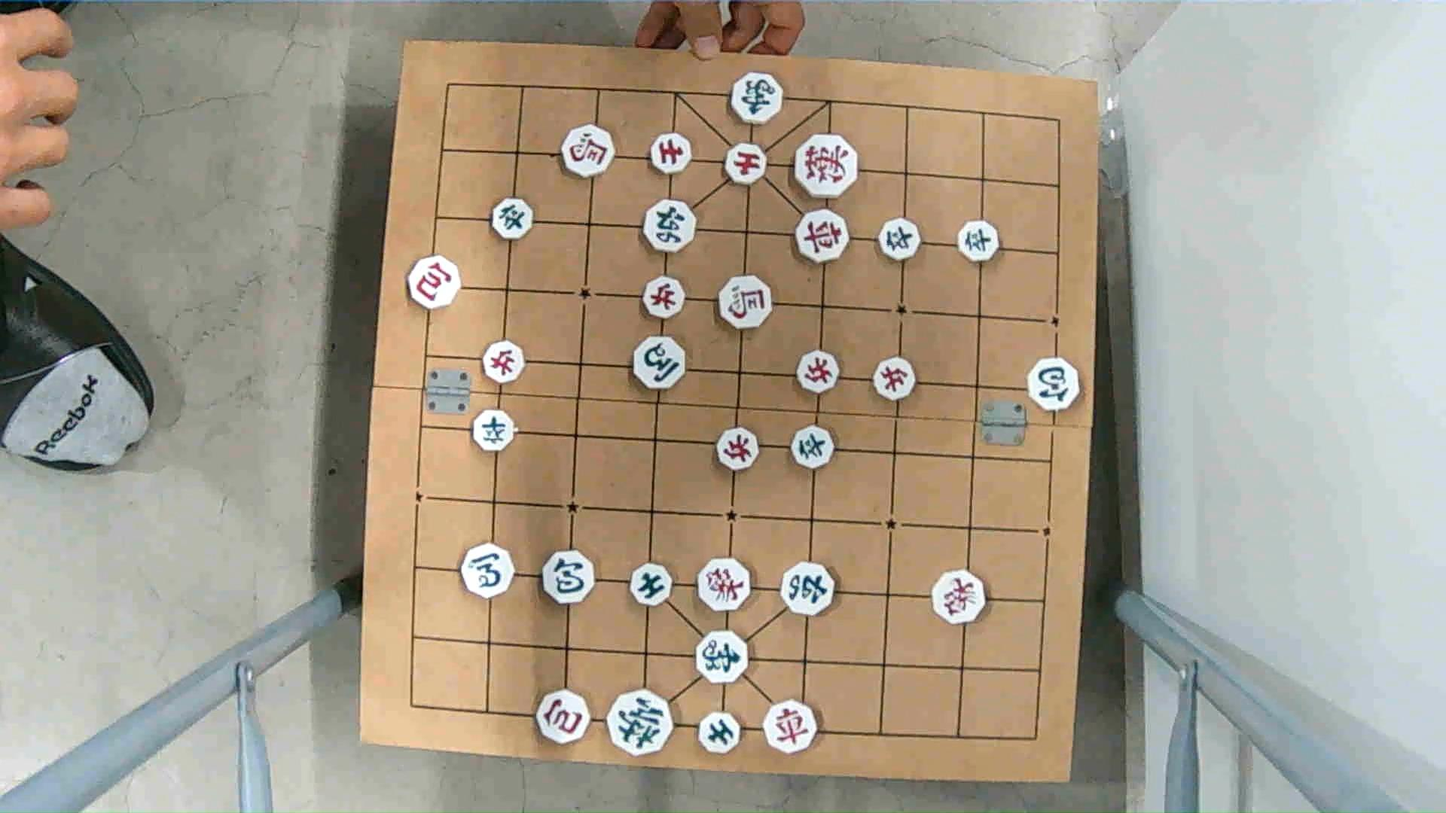cha_green: (642, 199, 696, 251), (782, 563, 833, 616)
cha_red: (795, 212, 851, 261), (765, 703, 815, 751)
jol_green: (789, 428, 836, 467), (471, 413, 518, 451), (877, 220, 922, 259), (955, 221, 999, 260), (489, 198, 534, 236)
jol_red: (872, 358, 917, 400), (714, 429, 760, 470), (640, 278, 687, 317), (481, 343, 527, 382), (795, 352, 840, 391)
ma_green: (633, 337, 688, 388), (459, 547, 514, 596)
ma_red: (719, 277, 776, 327), (560, 126, 616, 175)
po_green: (540, 549, 596, 601), (1028, 360, 1081, 408)
po_red: (536, 691, 592, 741), (405, 257, 461, 306)
sa_green: (628, 563, 674, 602), (697, 714, 743, 752)
sa_red: (720, 147, 768, 184), (647, 133, 691, 172)
sang_green: (697, 632, 749, 684), (732, 74, 780, 122)
sang_red: (932, 571, 988, 620), (699, 557, 750, 607)
wang_green: (607, 695, 674, 754)
wang_red: (795, 137, 858, 192)
